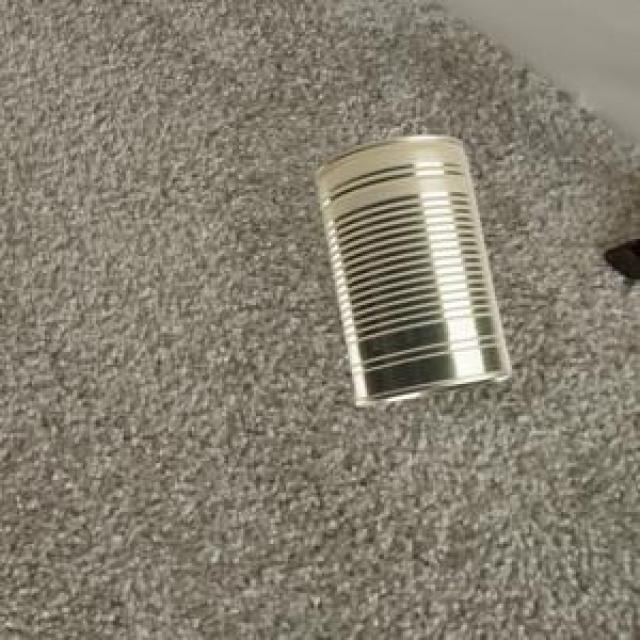Can: (313, 133, 509, 402)
